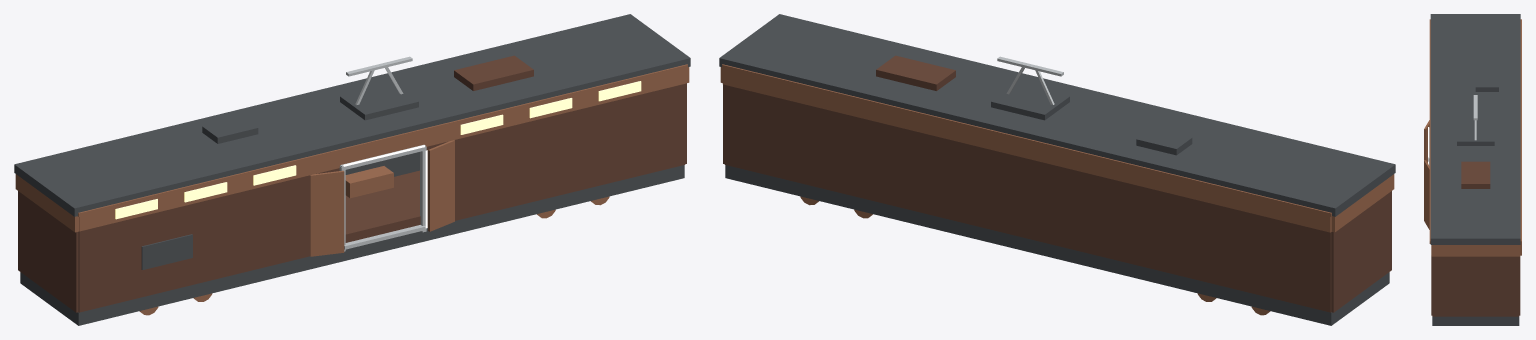
File: TrainCar.fbx
The picture shows the model from 3 angles, left to right: view 1: azimuth 30°, elevation 25°; view 2: azimuth 150°, elevation 25°; view 3: azimuth 270°, elevation 25°; orthographic projection. The views are drawn at different scales.
Parts seen in each view (by area): view 1: TrainCar; view 2: TrainCar; view 3: TrainCar.
Part boxes in pixels (bbox=[...]): TrainCar: bbox=[14, 14, 690, 325]; TrainCar: bbox=[719, 14, 1395, 325]; TrainCar: bbox=[1424, 14, 1521, 325].
Bounding box in the file's own units: 18.3 × 4.88 × 3.37.
